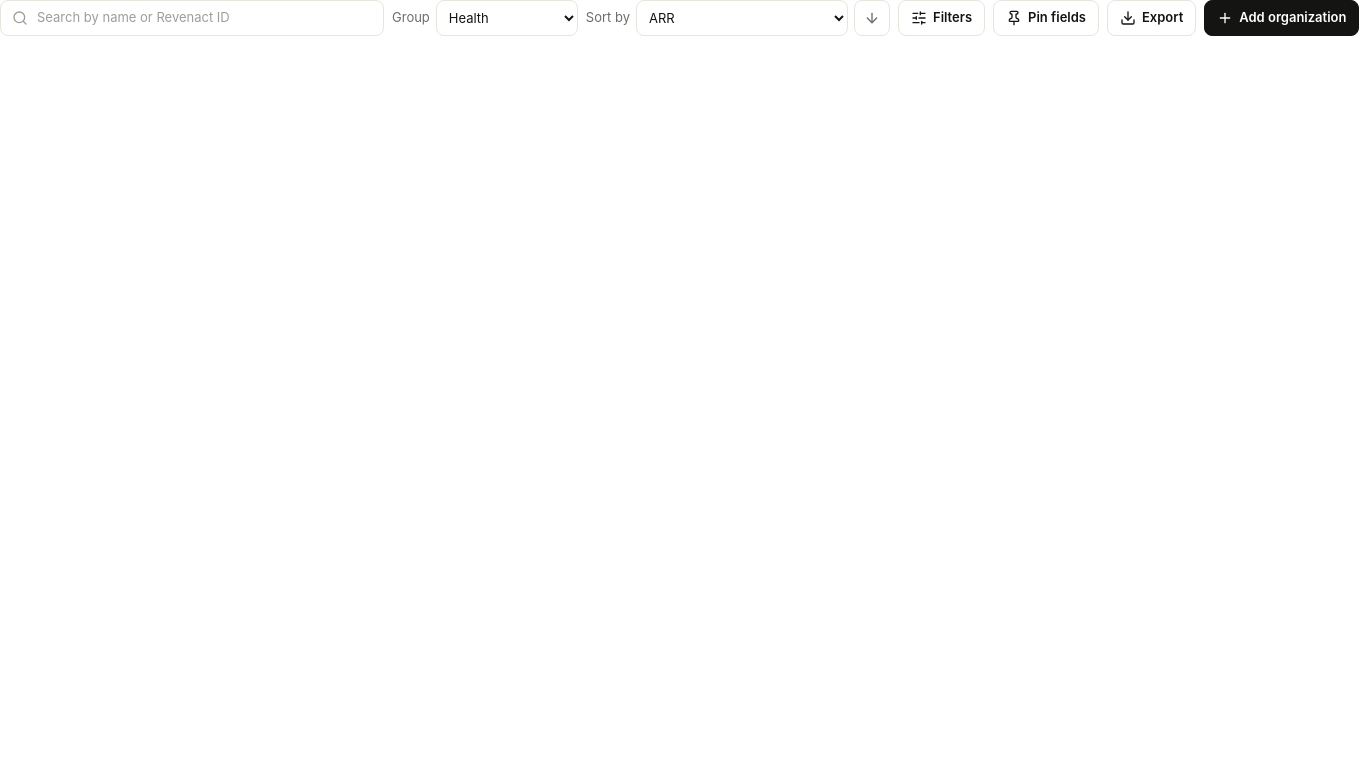
Test: PortfolioToolbar › exports, adds and opens the pin menu
Click the button "Export". click: {"x": 1152, "y": 18}
box: left=1107, top=0, right=1196, bottom=36
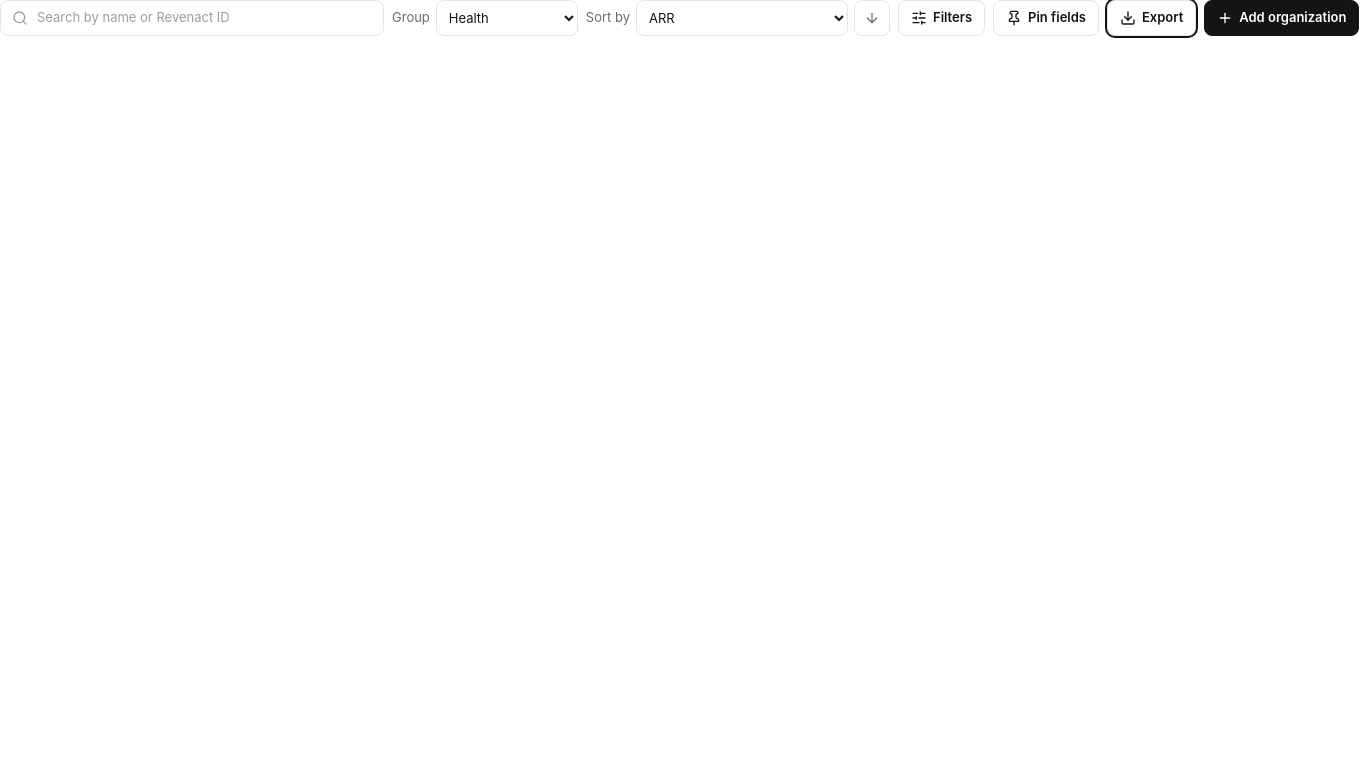
Click the button "Add organization". click: {"x": 1282, "y": 18}
box: left=1204, top=0, right=1360, bottom=36
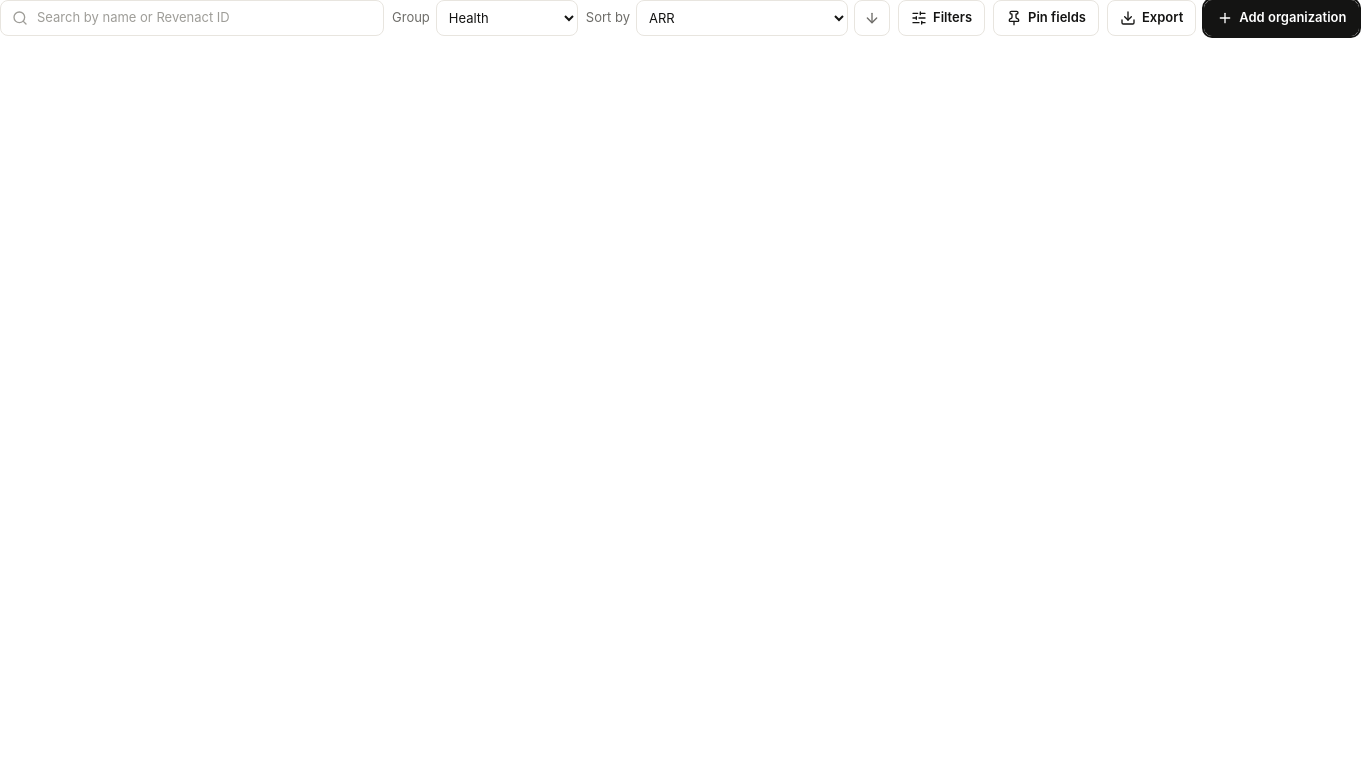
Click the button "Pin fields". click: {"x": 1046, "y": 18}
box: left=993, top=0, right=1099, bottom=36
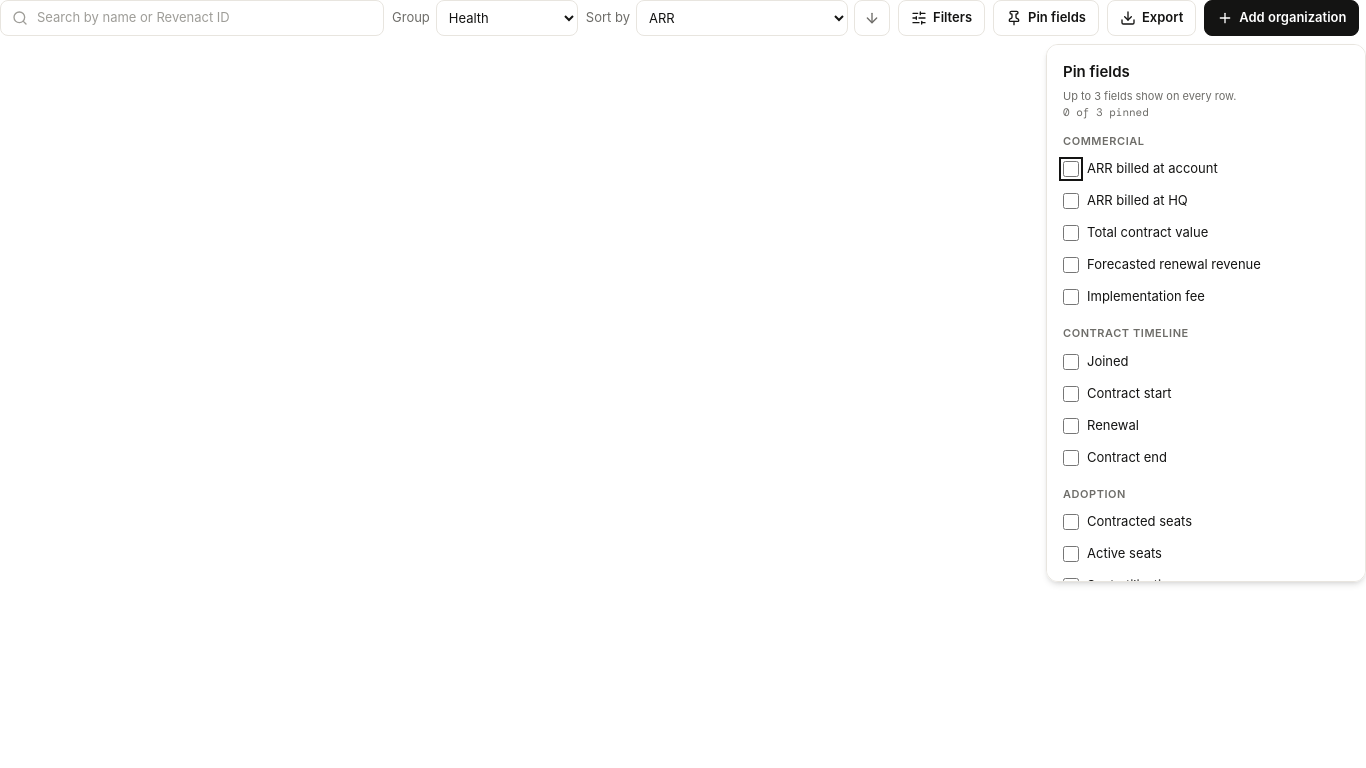
Check: the dialog "Pin fields" is shown, box left=1046, top=44, right=1365, bottom=582
